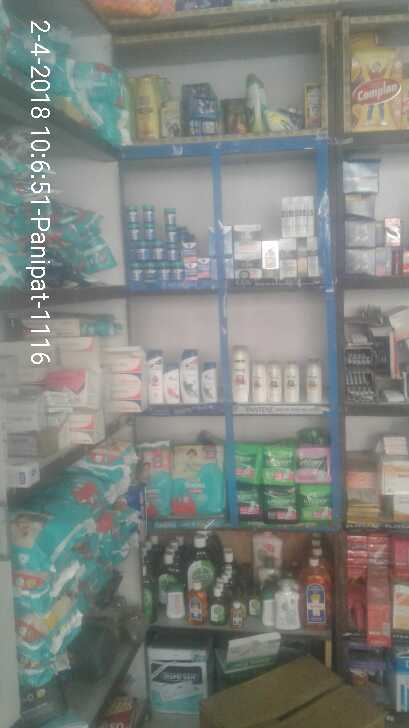vicks: (124, 202, 213, 282)
